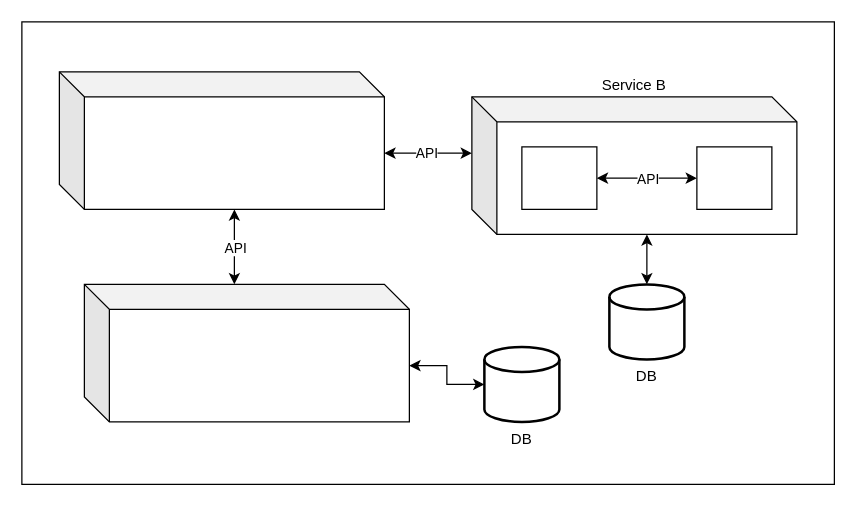
Image size: 856x506. Some labels were removed from this diagram. Each missing label, with the centre of its shape:
Service A: the point at 221,140
Service C: the point at 246,352
